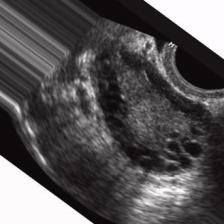pcos: (84, 42, 224, 184)
